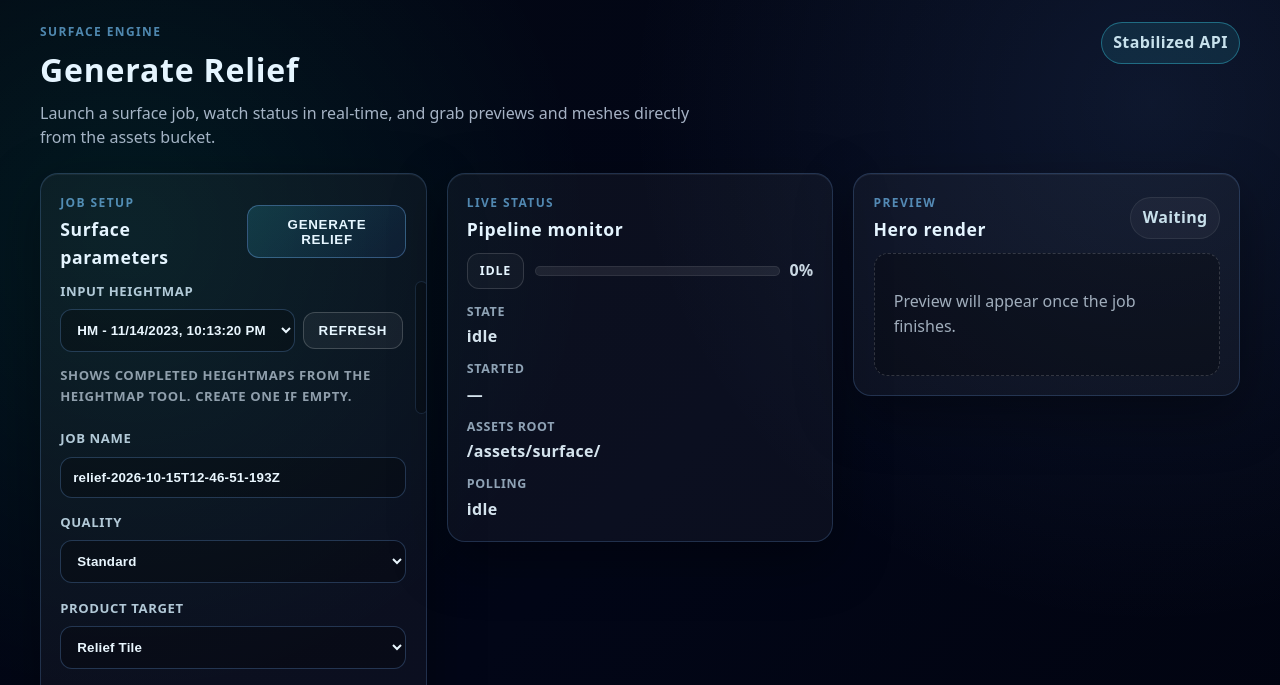
Test: SurfacePage heightmap integration › shows error on missing manifest
The width and height of the screenshot is (1280, 685).
Click the button "Generate Relief": x=327, y=232 [247, 206, 406, 258]
(page scrolled)
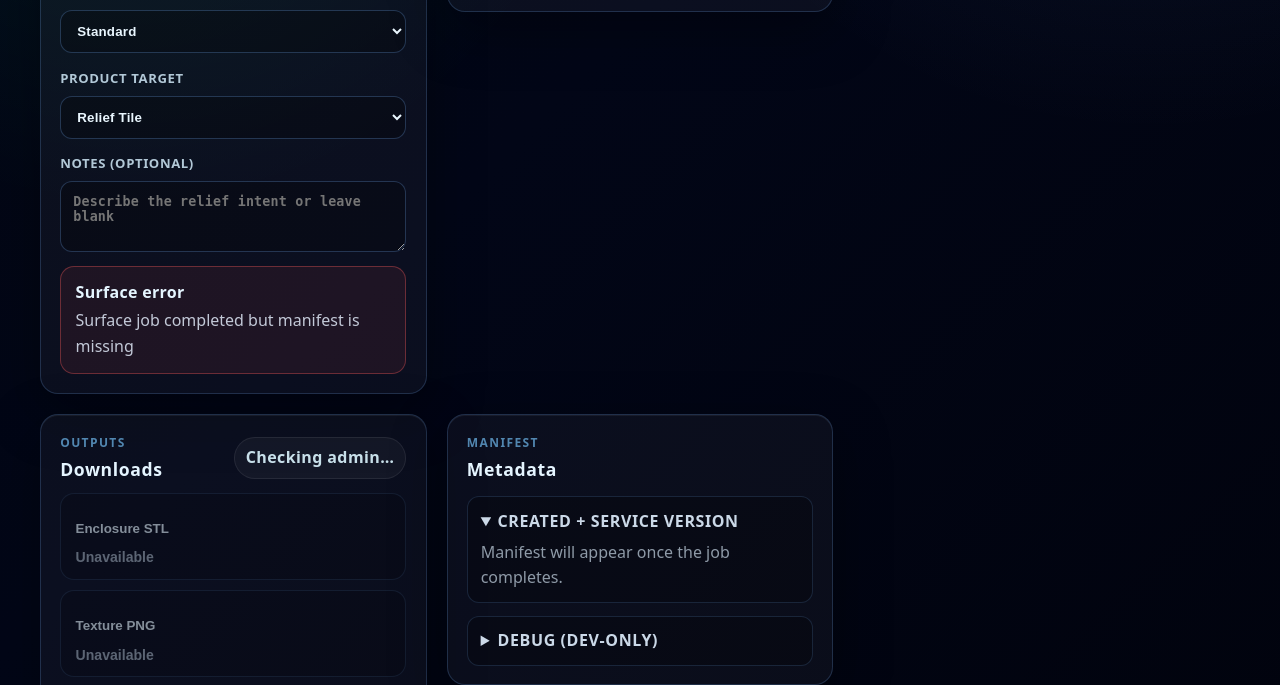
Expected: the text "Surface job completed but manifest is missing" is shown, [76, 308, 391, 360]
